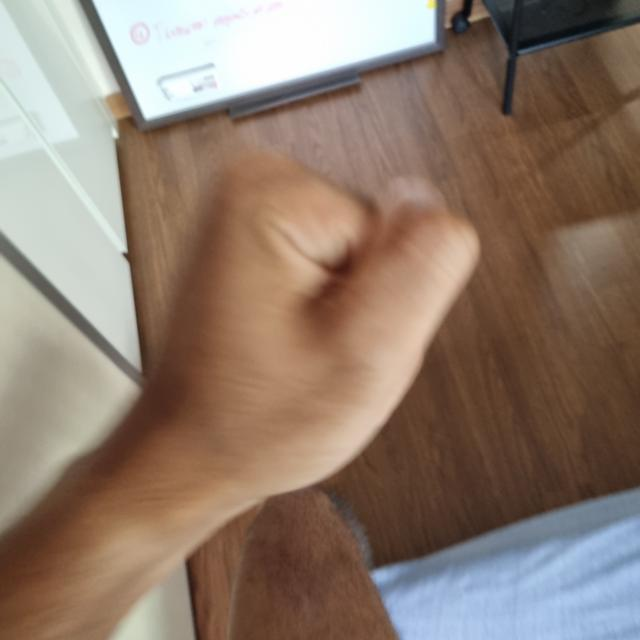Rock: (123, 136, 474, 500)
